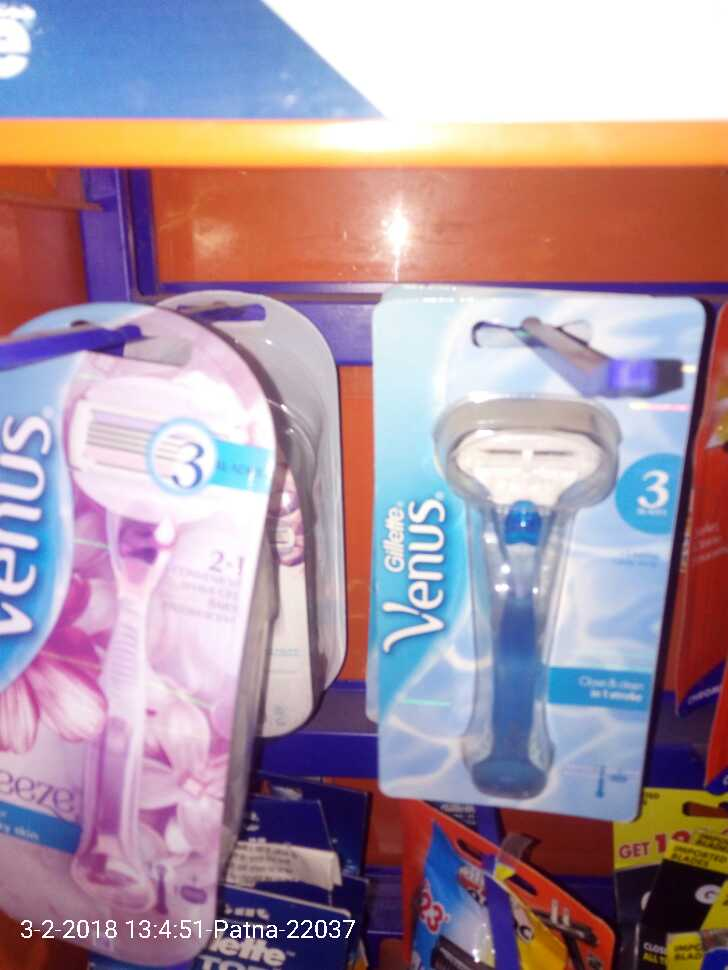venus: (1, 319, 324, 940), (374, 293, 670, 826)
